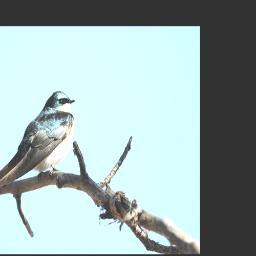Swallow: (0, 89, 76, 189)
